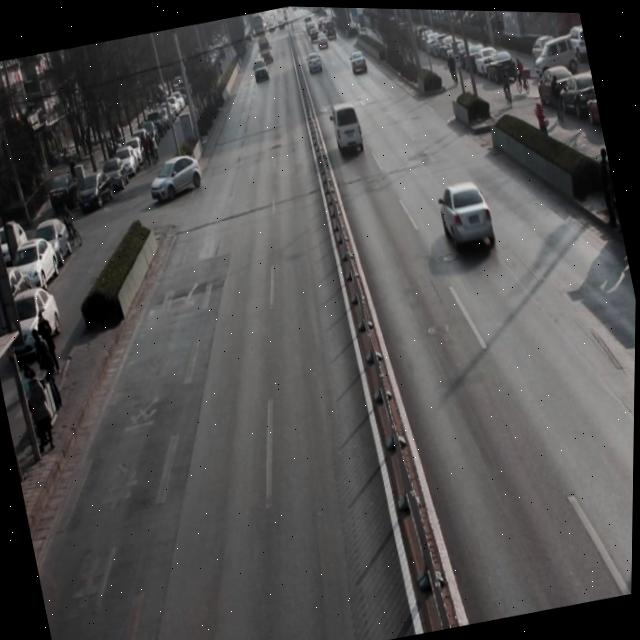car: (432, 174, 499, 256), (143, 145, 207, 203), (303, 46, 327, 77), (347, 44, 370, 75), (250, 54, 271, 85)
truck: (328, 95, 369, 161)
